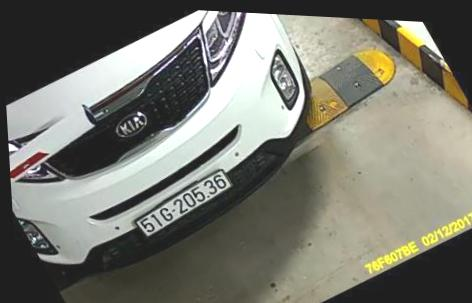License_Plate: (128, 164, 237, 244)
